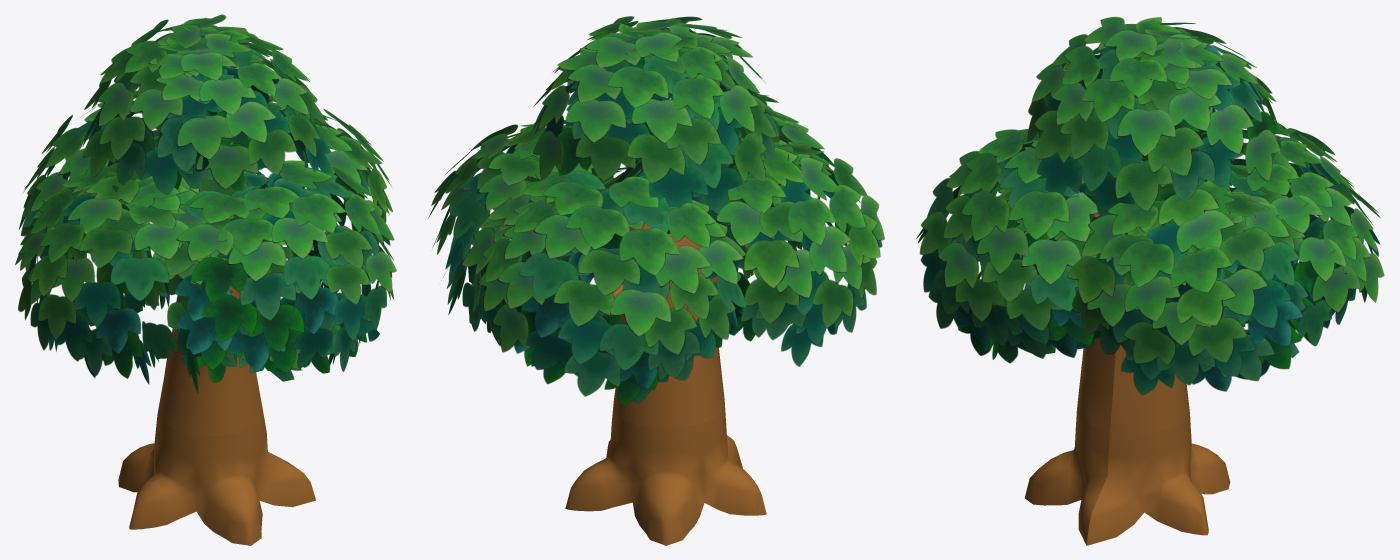
File: tree-oak.glb
3 renders of one model, left to right at view 1: azimuth 30°, elevation 25°; view 2: azimuth 150°, elevation 25°; view 3: azimuth 270°, elevation 25°, orthographic. The views are drawn at different scales.
Visible parts, largest first — view 1: Tree_Oak; view 2: Tree_Oak; view 3: Tree_Oak.
Part boxes in pixels (x1=…): Tree_Oak: x1=15, y1=14, x2=396, y2=545; Tree_Oak: x1=428, y1=16, x2=884, y2=545; Tree_Oak: x1=916, y1=17, x2=1384, y2=545.
Bounding box in the file's own units: 5.76 × 6.74 × 6.1.
2 materials, 1 textured.
